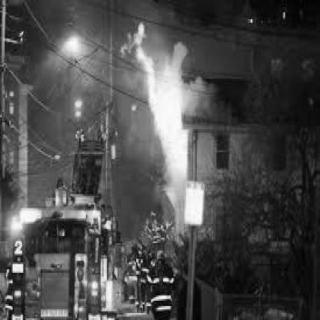other: (11, 217, 23, 231)
